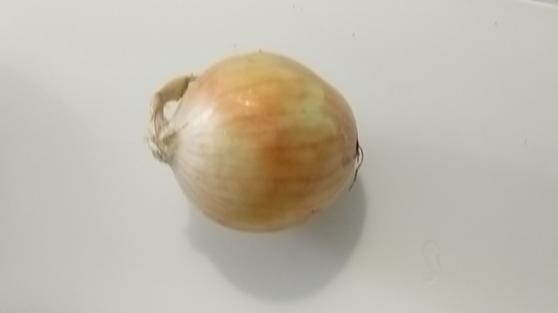onion: (146, 50, 363, 232)
